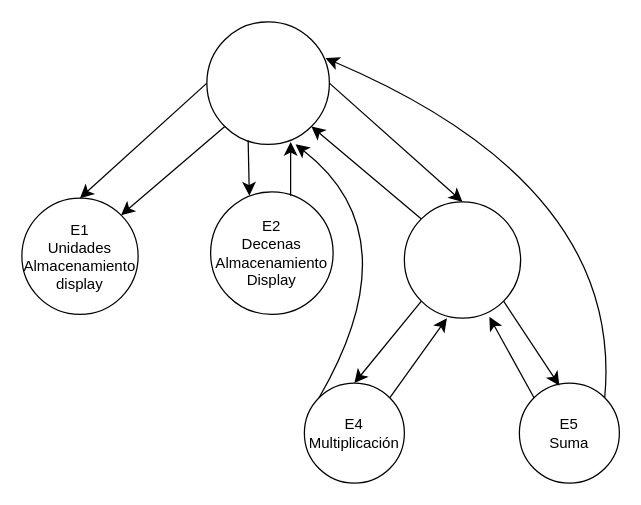
Image size: 641x505. Some labels were removed from this diagram. Each missing label, with the box of its shape:
E0 Teclado: (206, 21, 329, 144)
E3 Operación: (403, 201, 521, 318)
